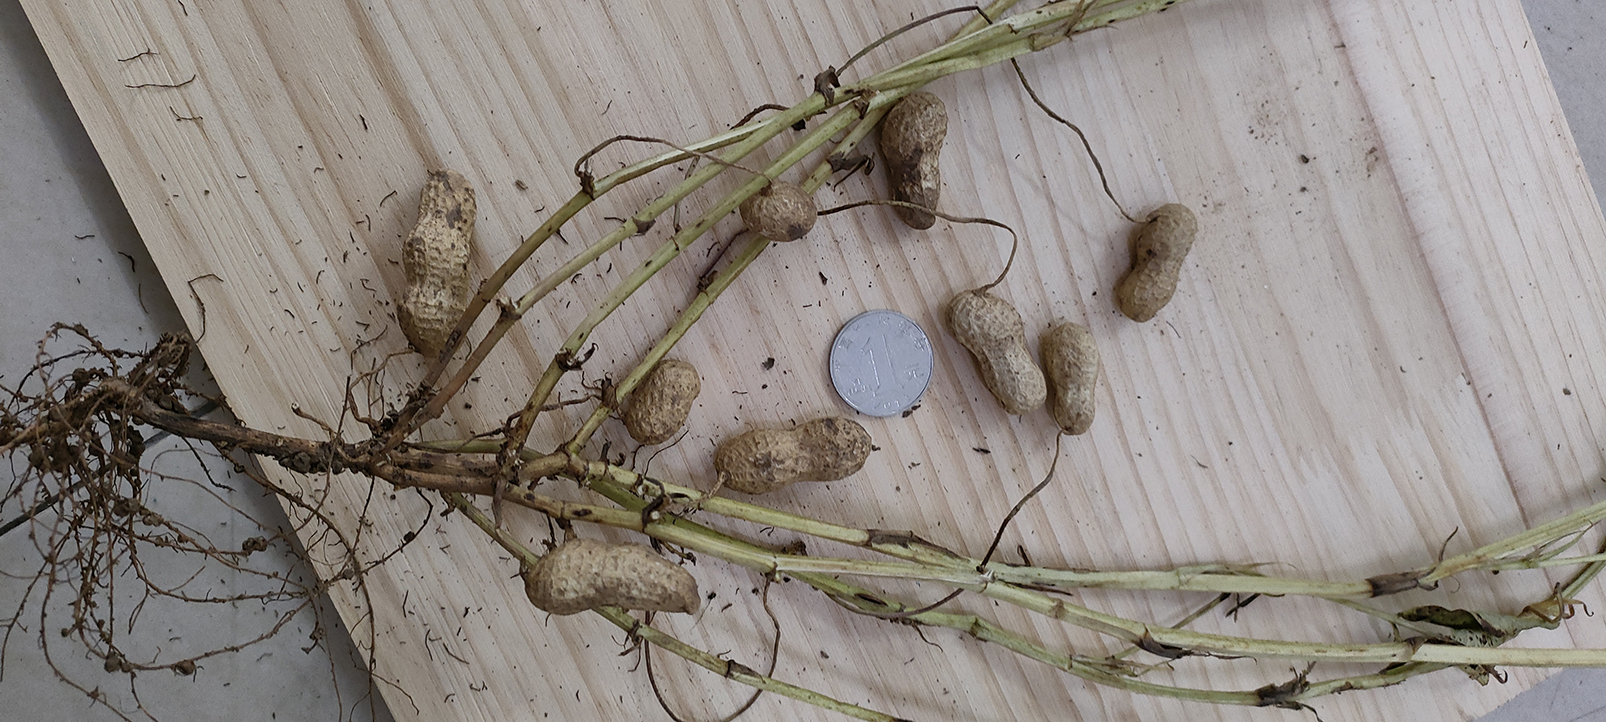h: (397, 170, 478, 356), (526, 534, 701, 615), (946, 290, 1048, 413), (716, 418, 875, 493), (1112, 200, 1199, 323), (626, 358, 702, 443), (1045, 324, 1100, 430), (739, 179, 818, 238)
l: (880, 91, 948, 230)
